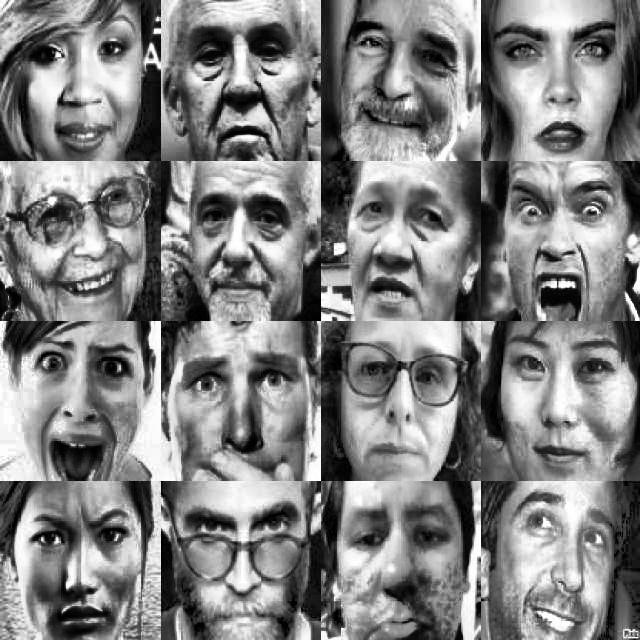angry: (26, 496, 163, 627), (513, 176, 636, 304)
fear: (182, 347, 302, 458), (23, 344, 132, 455)
happy: (23, 170, 146, 299), (29, 16, 143, 153), (353, 17, 461, 148), (519, 495, 619, 633)
neutral: (182, 499, 311, 639), (187, 6, 313, 148), (497, 8, 621, 137), (195, 172, 315, 303), (517, 344, 628, 466)
sad: (352, 177, 469, 315), (348, 335, 466, 459), (342, 502, 450, 626)
